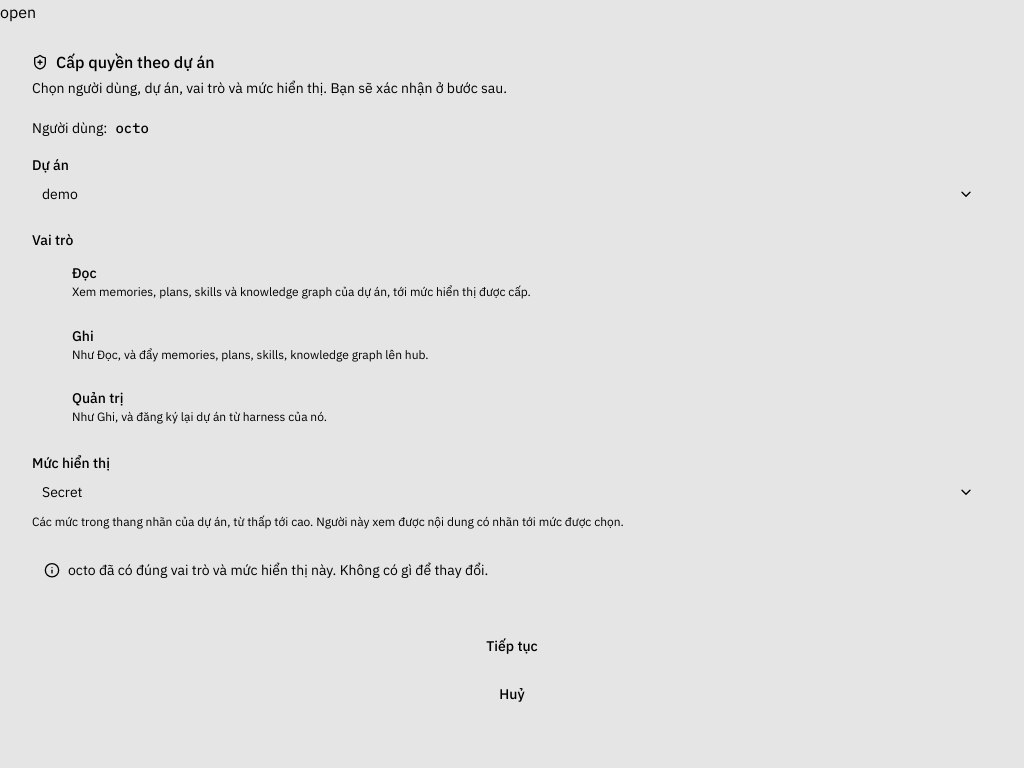
Scenario: GrantDialog › says what the member has now when changing a grant, and refuses a change that changes nothing
The width and height of the screenshot is (1024, 768).
Expected: the element with test id "grant-existing" shows "octo đã có đúng vai trò và mức hiển thị này", [68,561,488,579]
Expected: the button "Tiếp tục" is disabled, [32,626,992,666]
Select "Internal" in the dropdown labelled "Mức hiển thị" at (512, 492), box [32,476,992,508]
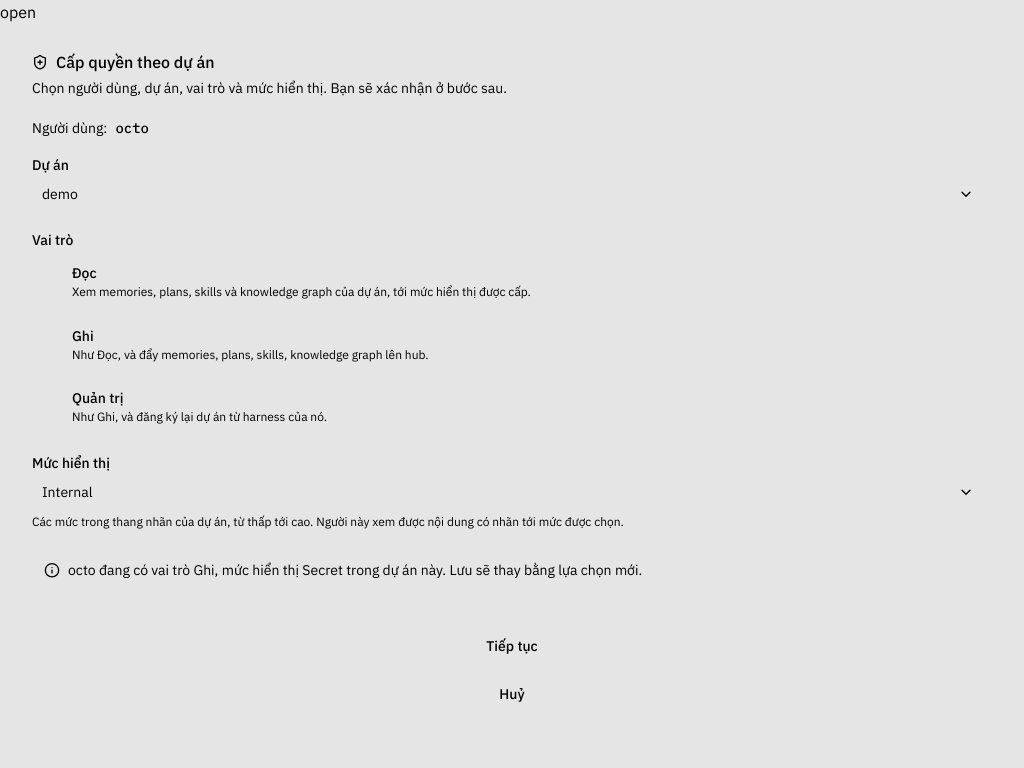
Result: the element with test id "grant-existing" shows "octo đang có vai trò Ghi, mức hiển thị Secret trong dự án này" at [68,561,642,579]
Click the button "Tiếp tục" at (512, 646), box [32,626,992,666]
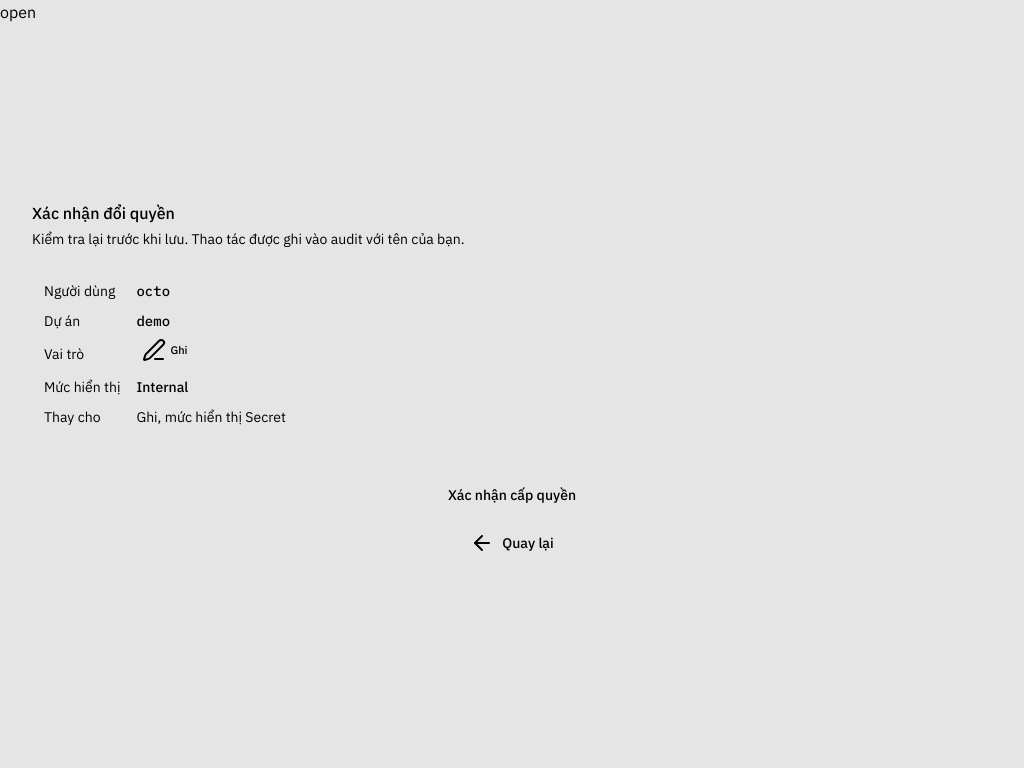
Result: the heading "Xác nhận đổi quyền" is shown at [32,203,175,223]
Result: the element with test id "grant-summary" shows "Ghi, mức hiển thị Secret" at [136,408,286,426]
